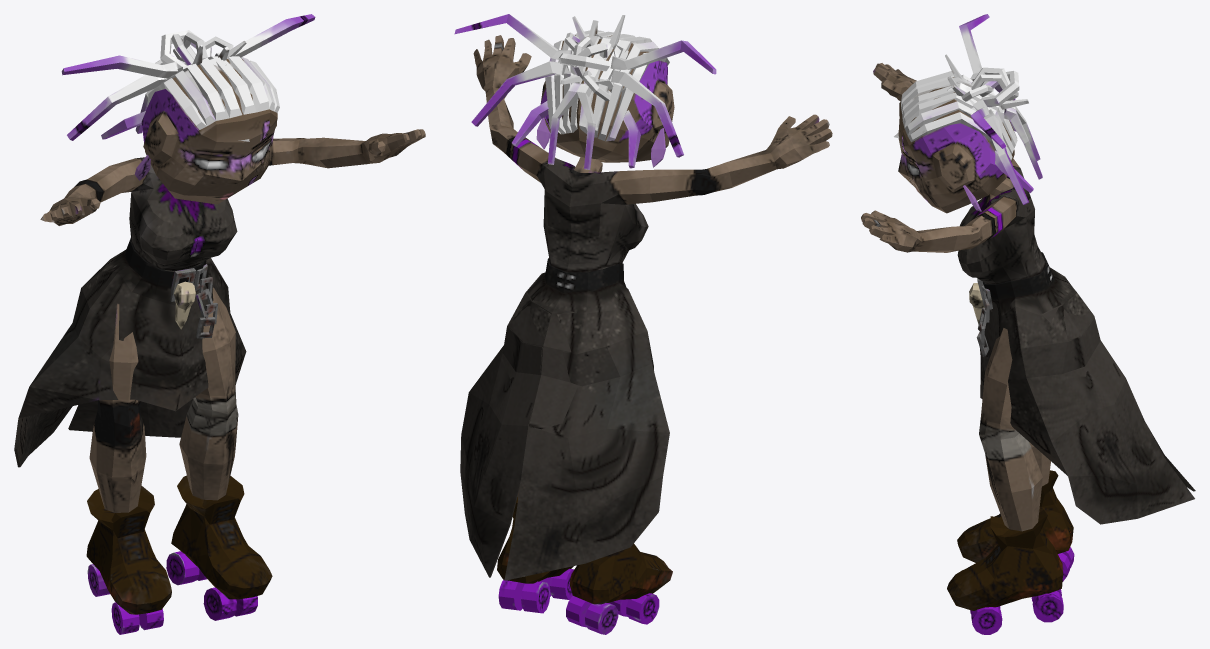
The model's file is bruja_000212.obj.
3 renders of one model, left to right at view 1: azimuth 30°, elevation 25°; view 2: azimuth 150°, elevation 25°; view 3: azimuth 270°, elevation 25°, orthographic. The views are drawn at different scales.
Visible parts, largest first — view 1: Bruja_Plane.001; view 2: Bruja_Plane.001; view 3: Bruja_Plane.001.
Part boxes in pixels (left/top/right/bottom): Bruja_Plane.001: left=14, top=14, right=425, bottom=634; Bruja_Plane.001: left=454, top=14, right=832, bottom=634; Bruja_Plane.001: left=861, top=14, right=1195, bottom=634.
Size of the model in its own units: 10.72 by 16.37 by 9.04.
